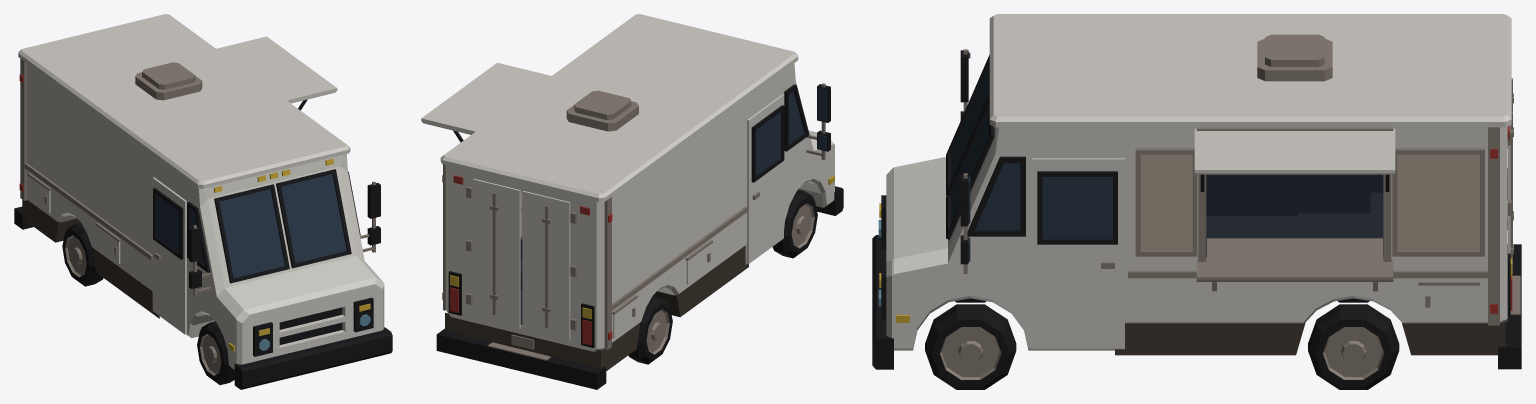
The model's file is food-truck-3c4e0e.glb.
The picture shows the model from 3 angles, left to right: view 1: azimuth 30°, elevation 25°; view 2: azimuth 150°, elevation 25°; view 3: azimuth 270°, elevation 25°; orthographic projection. The views are drawn at different scales.
Visible parts, largest first — view 1: body, door-cab-r-mesh, wheel-mesh (×2); view 2: body, door-rear-l-mesh, door-rear-r-mesh, door-cab-r-mesh, wheel-mesh (×2); view 3: body, door-cab-l-mesh, wheel-mesh (×2), door-rear-l-mesh.
Boxes of the visible parts, left/top/right/bottom form: body: left=14, top=14, right=392, bottom=389; door-cab-r-mesh: left=152, top=177, right=186, bottom=334; wheel-mesh (×2): left=62, top=222, right=234, bottom=384; body: left=421, top=14, right=843, bottom=389; door-rear-l-mesh: left=472, top=179, right=520, bottom=328; door-rear-r-mesh: left=522, top=191, right=570, bottom=340; door-cab-r-mesh: left=747, top=94, right=784, bottom=263; wheel-mesh (×2): left=628, top=189, right=817, bottom=364; body: left=872, top=14, right=1521, bottom=369; door-cab-l-mesh: left=1032, top=158, right=1124, bottom=348; wheel-mesh (×2): left=925, top=304, right=1399, bottom=389; door-rear-l-mesh: left=1508, top=112, right=1513, bottom=273.
Size of the model in its own units: 3.76 by 3.28 by 6.53.
